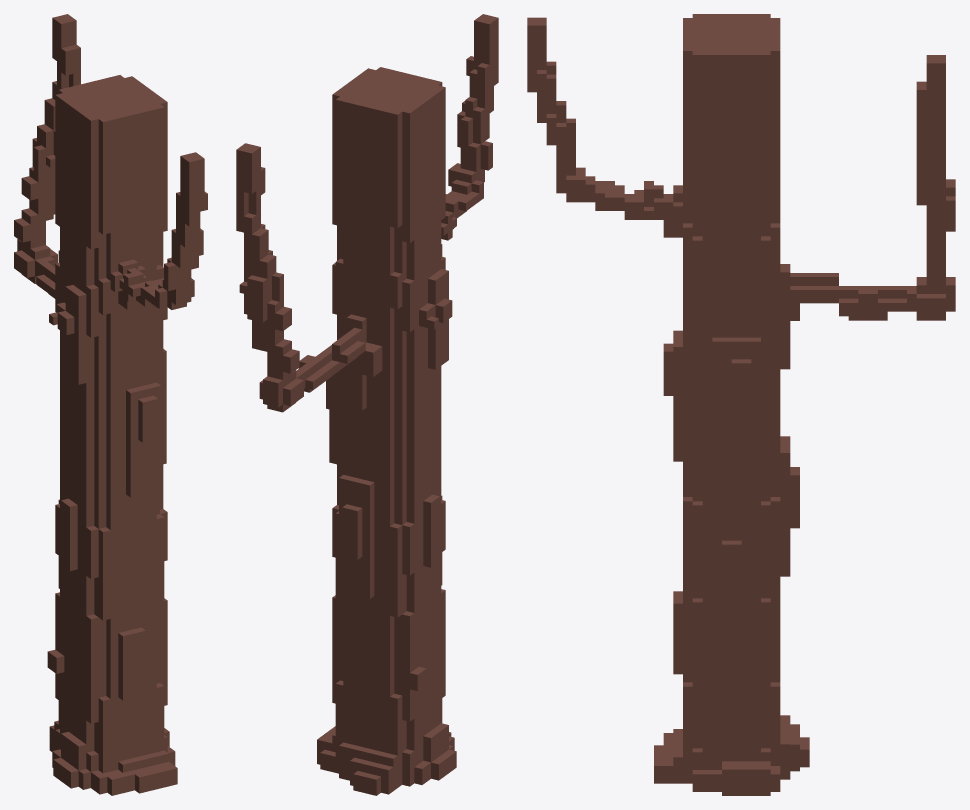
Rendered from trunk_3.dae.
3 views of the same model, side by side, from view 1: azimuth 30°, elevation 25°; view 2: azimuth 150°, elevation 25°; view 3: azimuth 270°, elevation 25° (orthographic). The views are drawn at different scales.
Visible parts, largest first — view 1: trunk_3; view 2: trunk_3; view 3: trunk_3.
Part boxes in pixels (x1,y1,x2,y2): trunk_3: (14, 14, 207, 795); trunk_3: (236, 14, 498, 795); trunk_3: (527, 14, 955, 795).
Bounding box in the file's own units: 1.4 × 4.4 × 8.4.
1 material, 1 textured.
